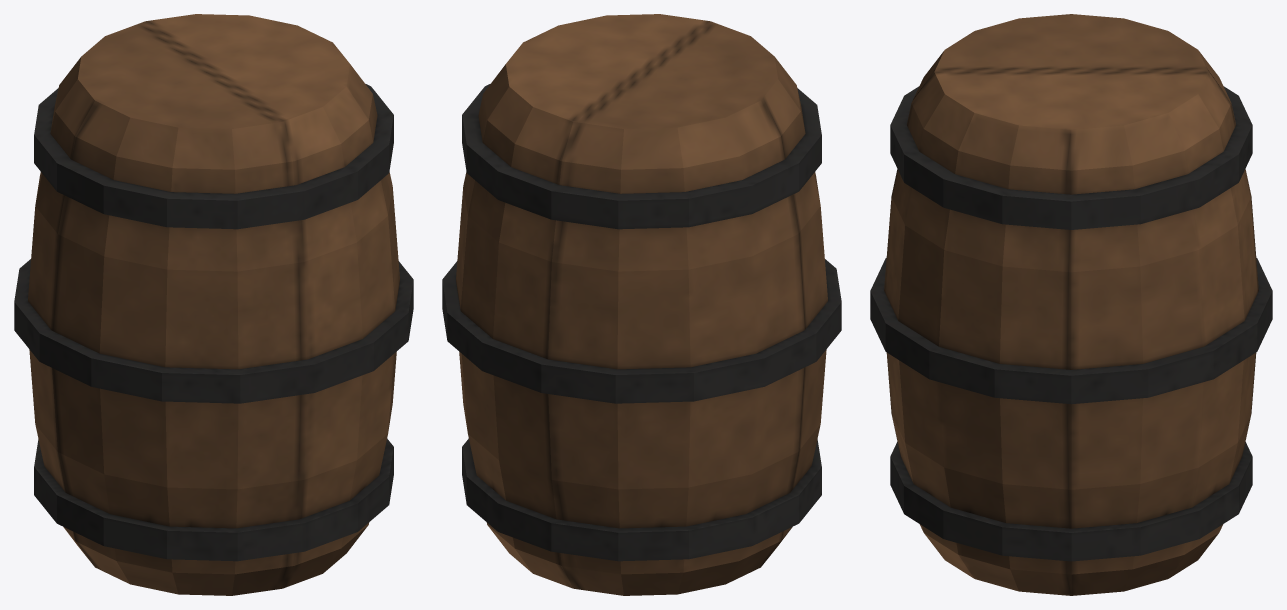
The model's file is Prop_Barrel.fbx.
3 renders of one model, left to right at view 1: azimuth 30°, elevation 25°; view 2: azimuth 150°, elevation 25°; view 3: azimuth 270°, elevation 25°, orthographic.
Visible parts, largest first — view 1: Prop_Barrel; view 2: Prop_Barrel; view 3: Prop_Barrel.
Part boxes in pixels (<box>): Prop_Barrel: <box>14,14,413,595</box>; Prop_Barrel: <box>442,14,841,595</box>; Prop_Barrel: <box>870,14,1272,595</box>.
Bounding box in the file's own units: 0.704 × 0.9 × 0.704.
